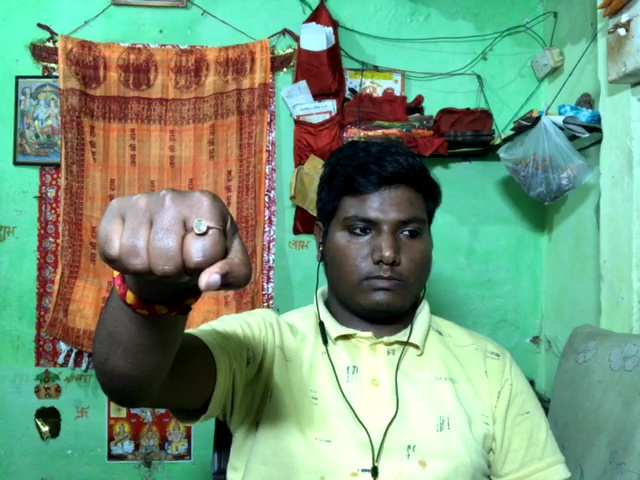Yes: (83, 187, 286, 333)
